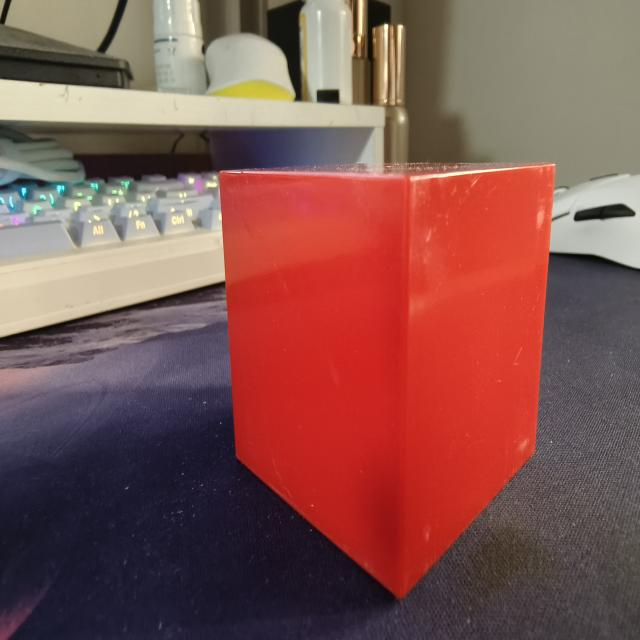red: (215, 161, 567, 602)
